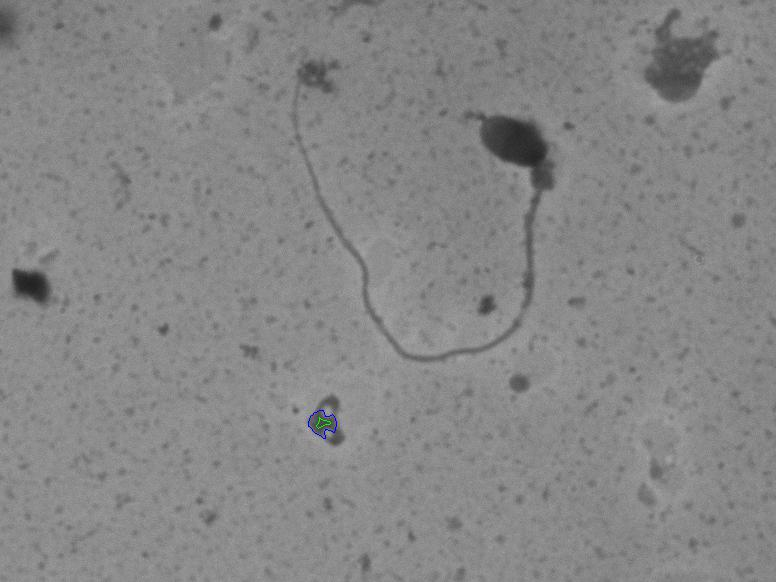Abnormal: (253, 50, 580, 386)
